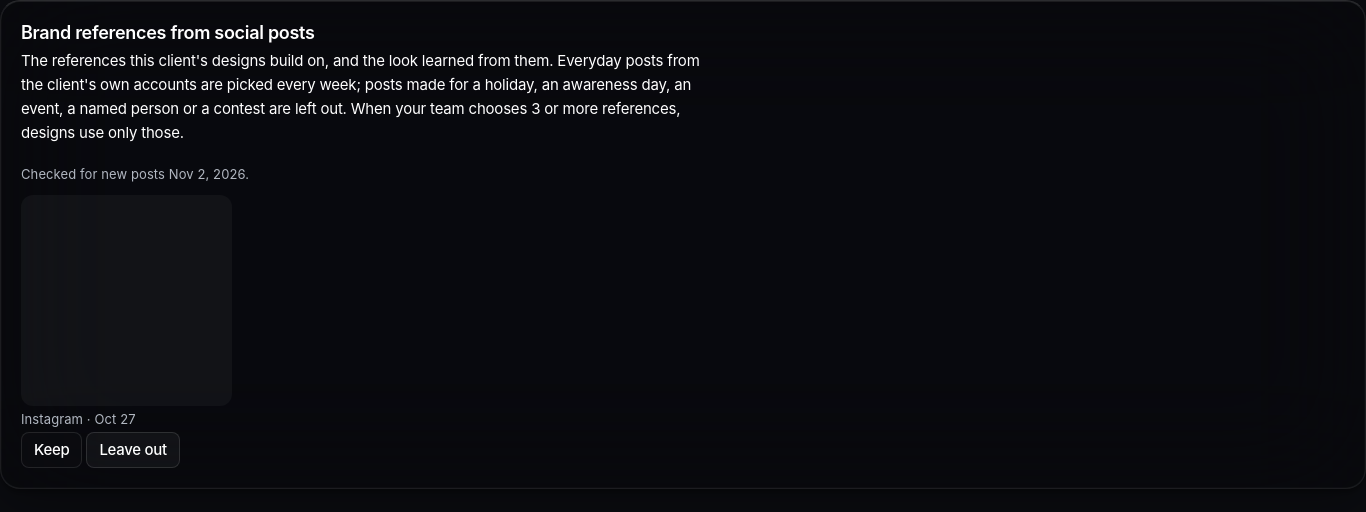
Test: reads the check again after a saved choice starts it
Click the button "Keep": (52, 450) top-left (21, 432), bottom-right (82, 468)
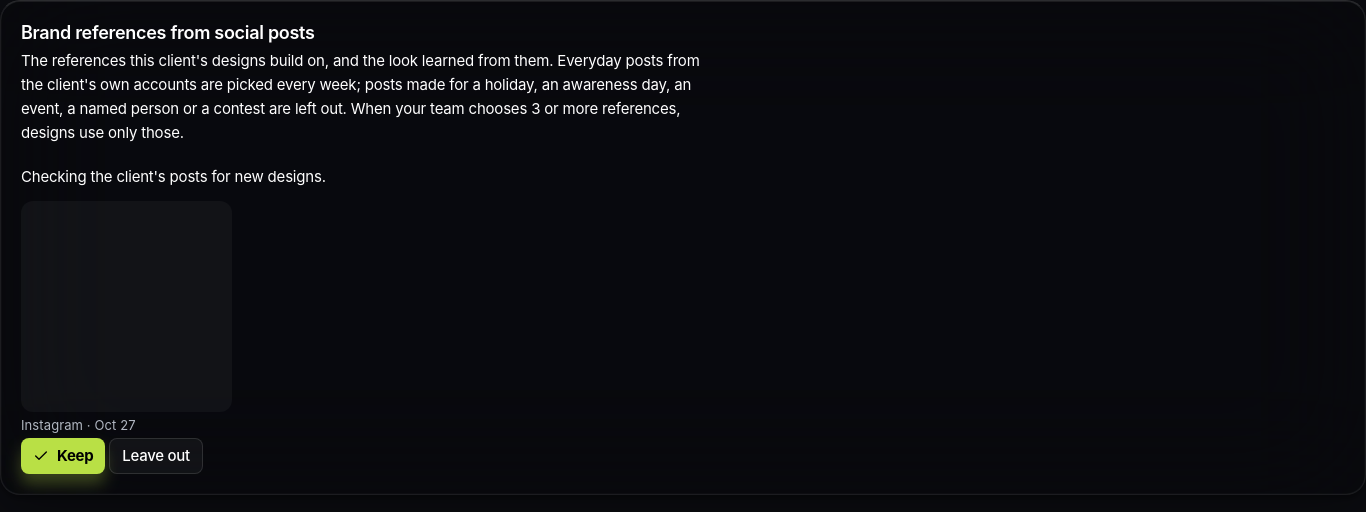
Expected: the text "Checking the client's posts for new designs." is shown, top-left (21, 167), bottom-right (326, 186)
